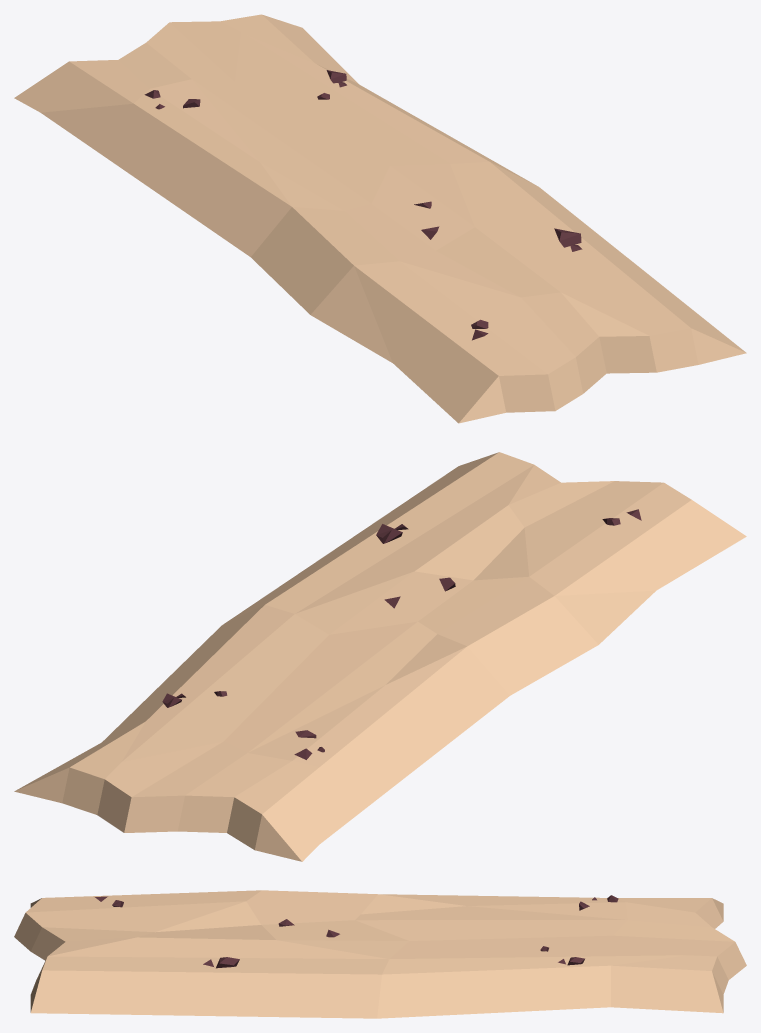
File: SM_Road_Long_Empire.fbx
The picture shows the model from 3 angles, top to bottom: view 1: azimuth 30°, elevation 25°; view 2: azimuth 150°, elevation 25°; view 3: azimuth 270°, elevation 25°; orthographic projection. The views are drawn at different scales.
Visible parts, largest first — view 1: SM_Road_Long_Empire; view 2: SM_Road_Long_Empire; view 3: SM_Road_Long_Empire.
Part boxes in pixels (left/top/right/bottom): SM_Road_Long_Empire: left=14, top=14, right=746, bottom=423; SM_Road_Long_Empire: left=14, top=452, right=746, bottom=861; SM_Road_Long_Empire: left=14, top=890, right=746, bottom=1018.
Size of the model in its own units: 4.72 by 0.671 by 12.69.
